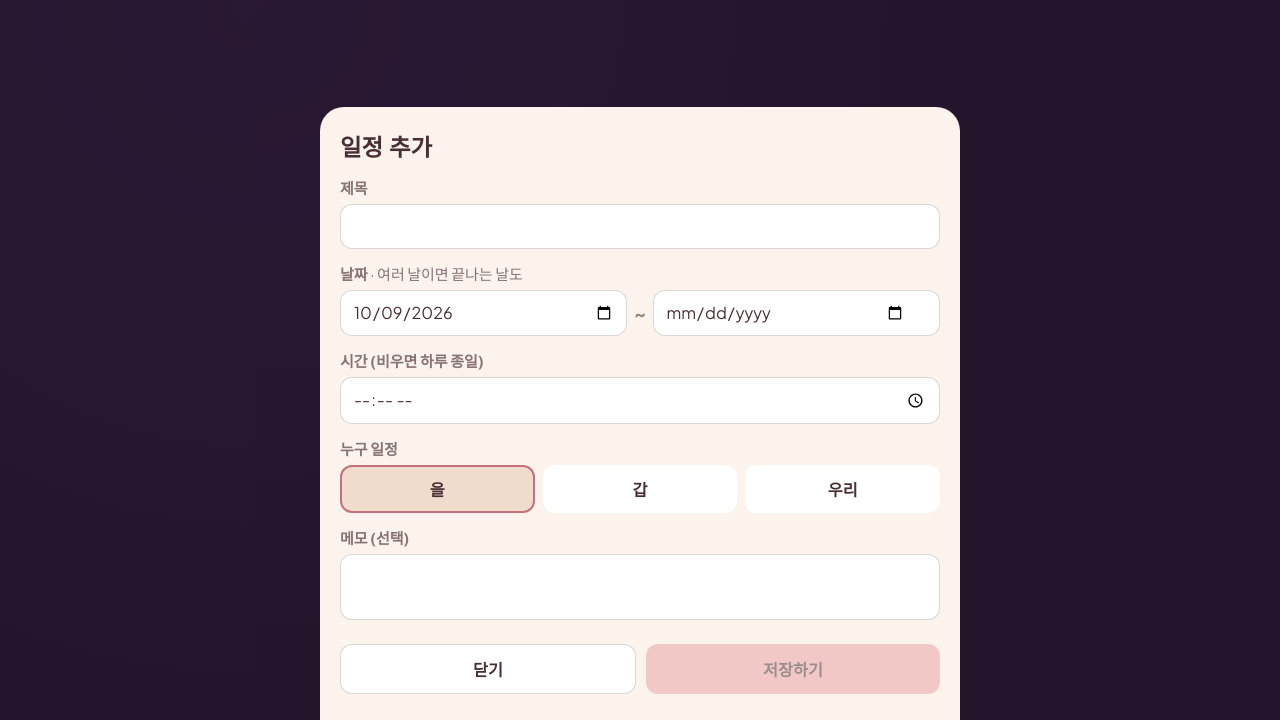
EventFormModal › cannot be saved once the date is cleared
This screenshot has width=1280, height=720.
Type "약속" into the field labelled "제목". click: (640, 226)
box: [340,204,940,249]
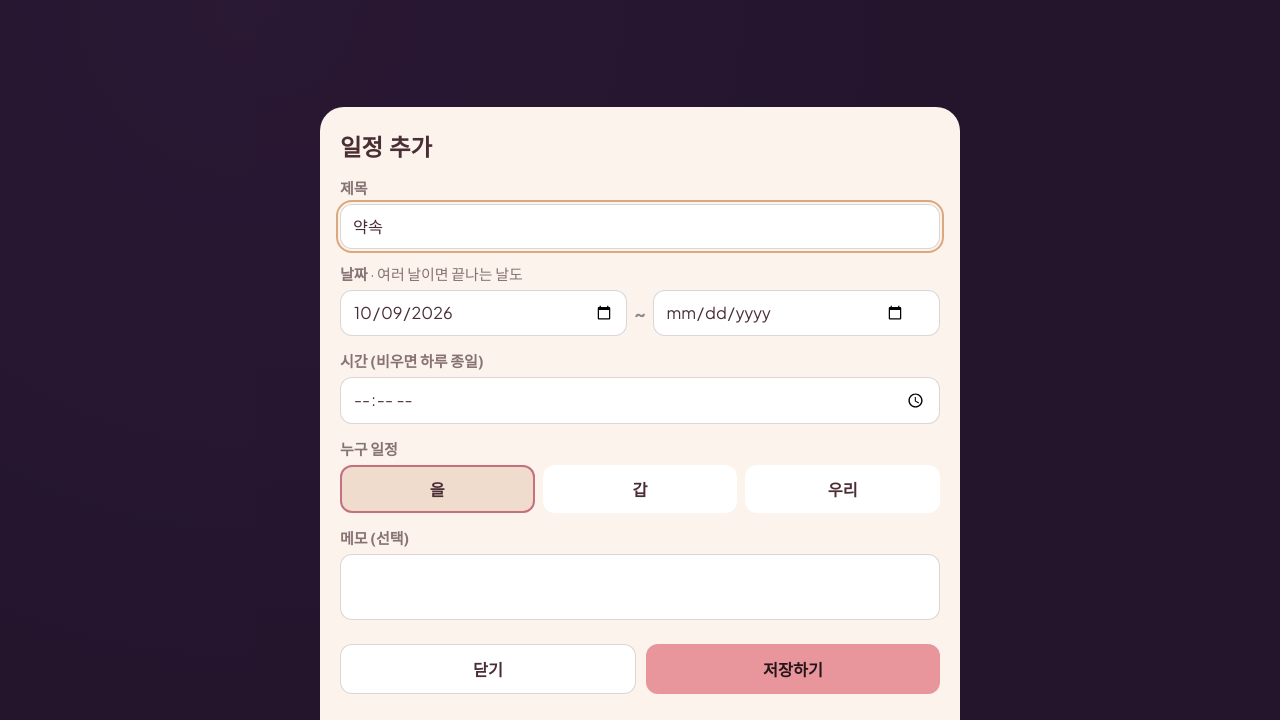
Clear the date field named "시작하는 날". click: (484, 313)
box: [340,290,627,336]
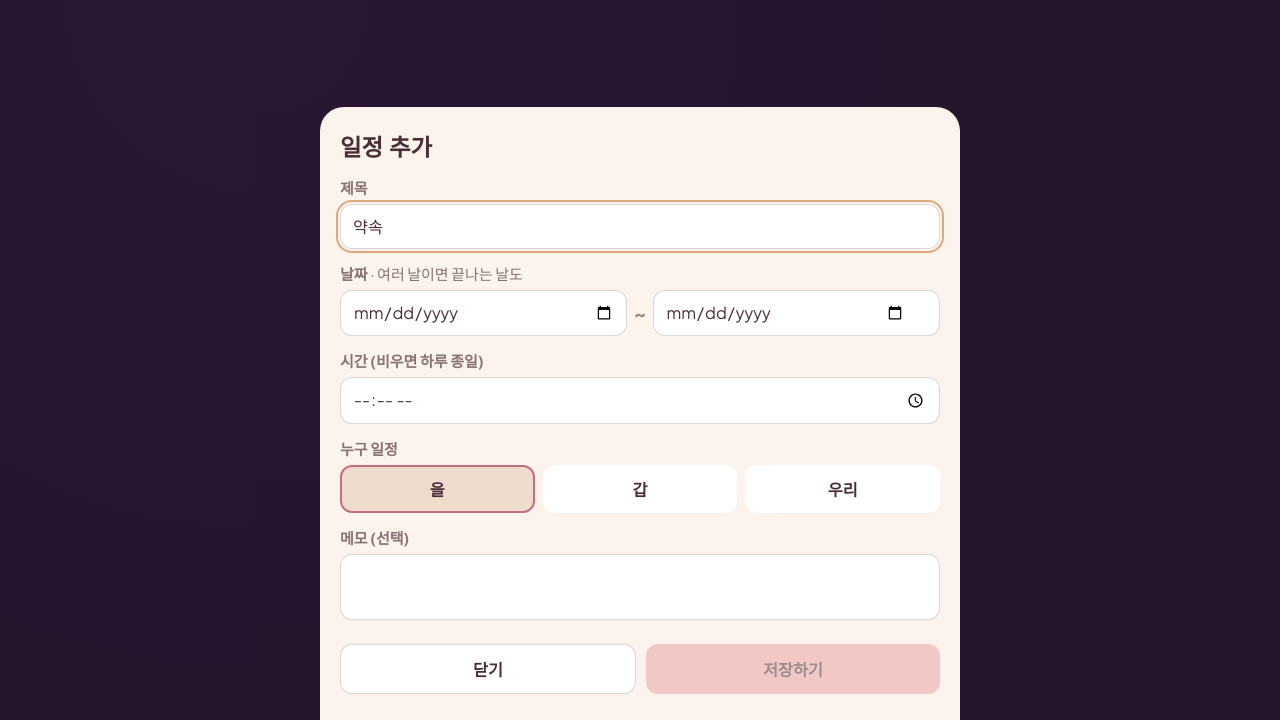
Check: the button "저장하기" is disabled, box [646,644,940,694]
